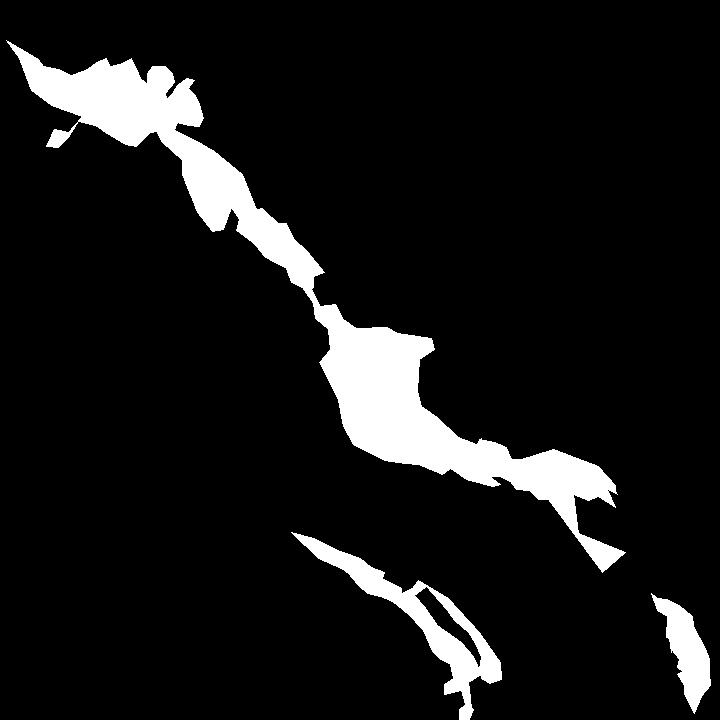Fire: (217, 183, 320, 283), (142, 62, 200, 119), (441, 440, 510, 471), (360, 377, 393, 411)
